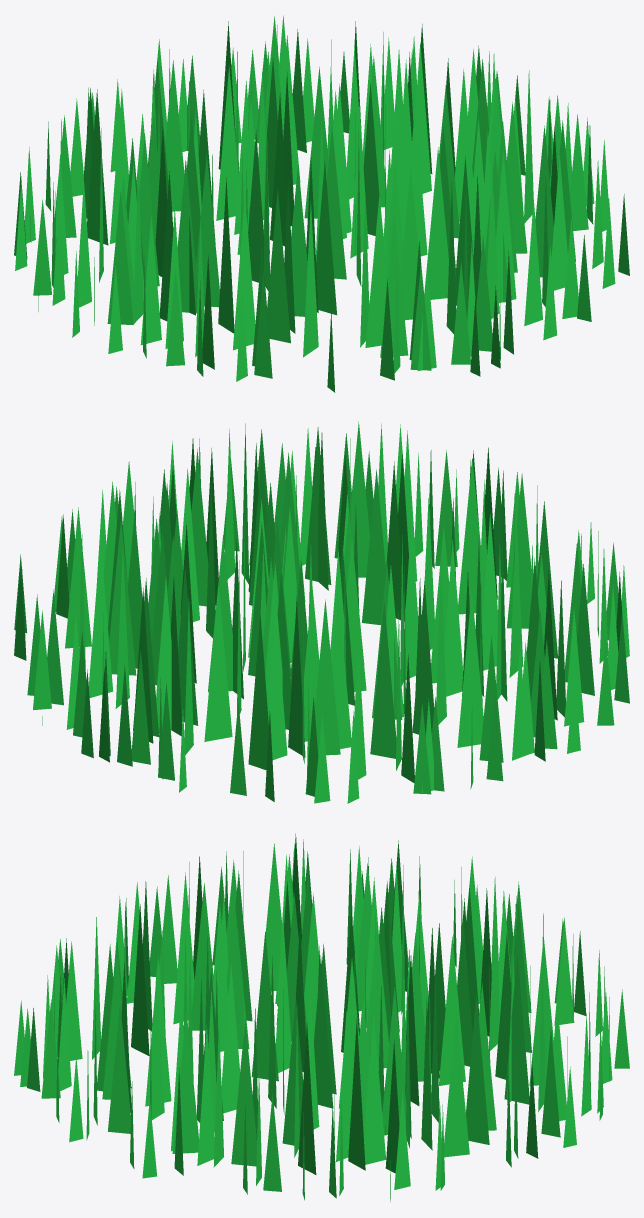
The model's file is Grass Patch 1.fbx.
3 views of the same model, one above another, from view 1: azimuth 30°, elevation 25°; view 2: azimuth 150°, elevation 25°; view 3: azimuth 270°, elevation 25° (orthographic). The views are drawn at different scales.
Parts seen in each view (by area): view 1: Grass Patch 1; view 2: Grass Patch 1; view 3: Grass Patch 1.
Boxes of the visible parts, <box> form: Grass Patch 1: <box>14,15,629,392</box>; Grass Patch 1: <box>14,421,629,803</box>; Grass Patch 1: <box>14,833,629,1201</box>.
Bounding box in the file's own units: 1.58 × 0.43 × 1.61.
